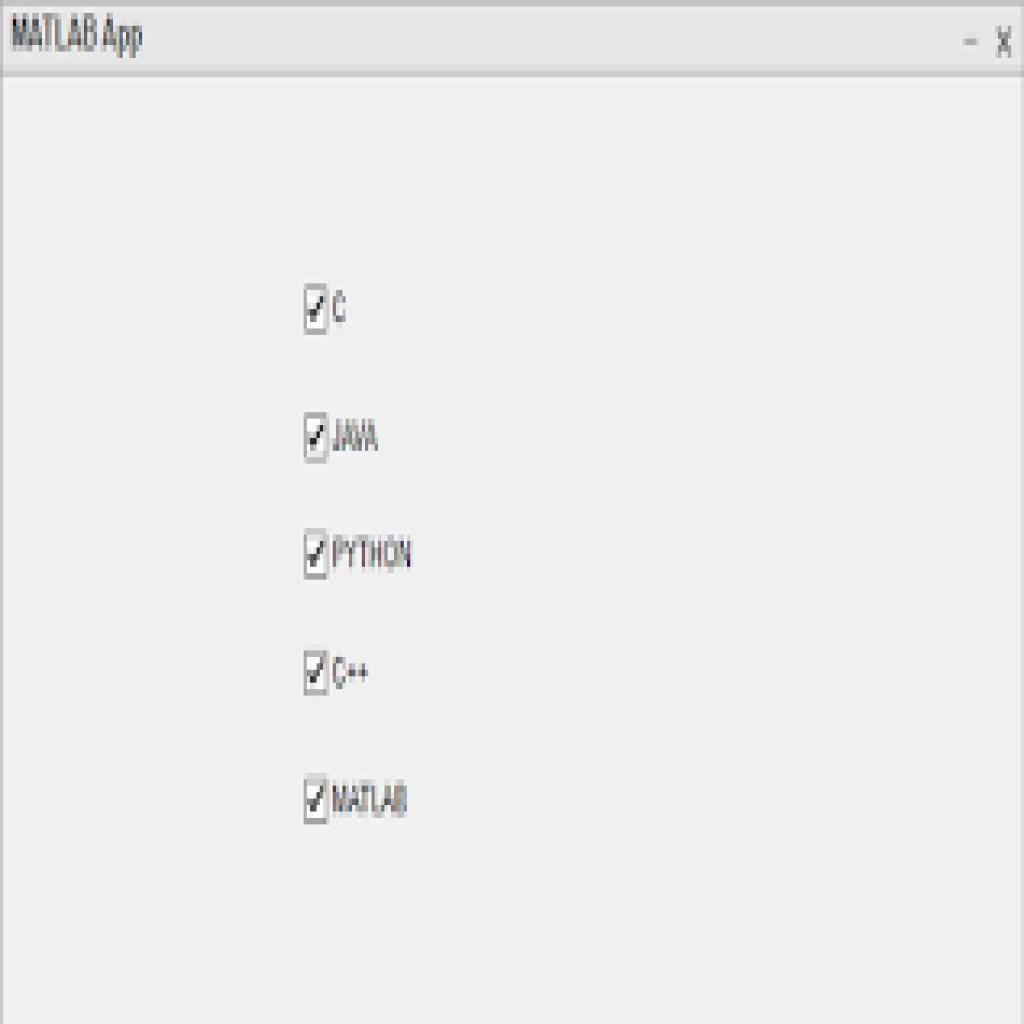checkbox: (304, 779, 332, 823), (306, 285, 330, 333), (306, 531, 330, 579), (306, 413, 330, 460), (305, 652, 331, 695)
